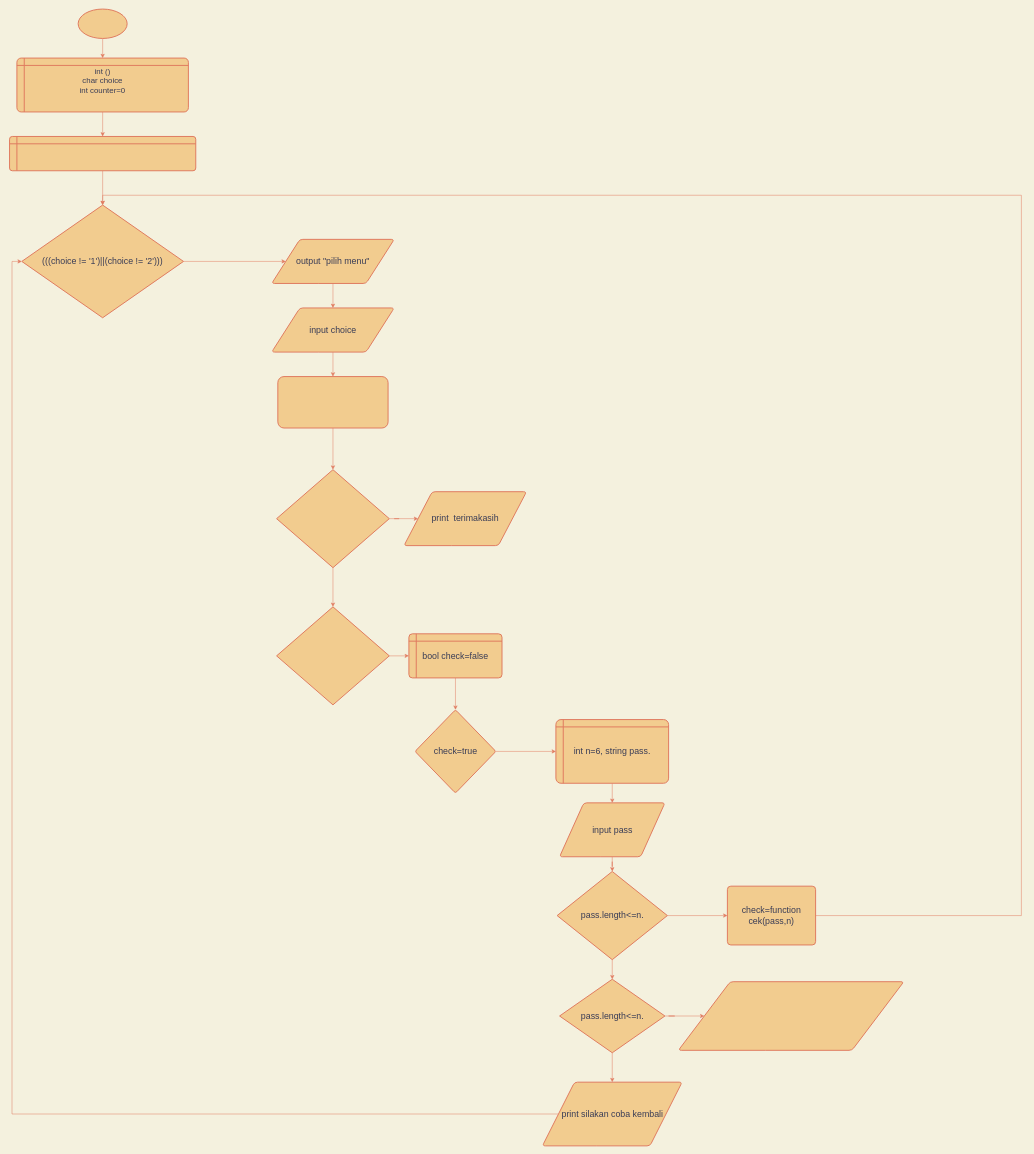
Image size: 1034x1154. Some labels were removed from this diagram. The shapes that lost their labels are listed below. From the top down, each one's centre as x and y in pixels, then its label:
point 102,23: MAIN
point 102,153: string menu[2]={"LUPA PASSWORD","KELUAR"}
point 332,402: counter++
point 333,518: choice==2
point 333,655: choice==1
point 791,1016: print format password tidak sesuai
